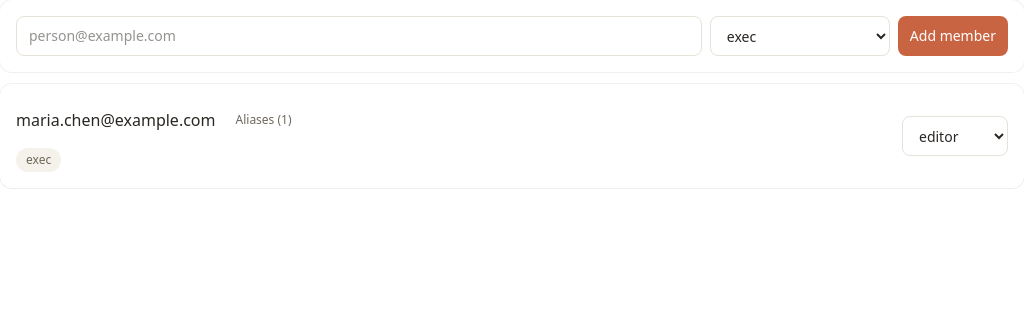
it: AccessMembers › closes the panel again on a second click
Click the button "Aliases (1)": (264, 120) [224, 100, 304, 140]
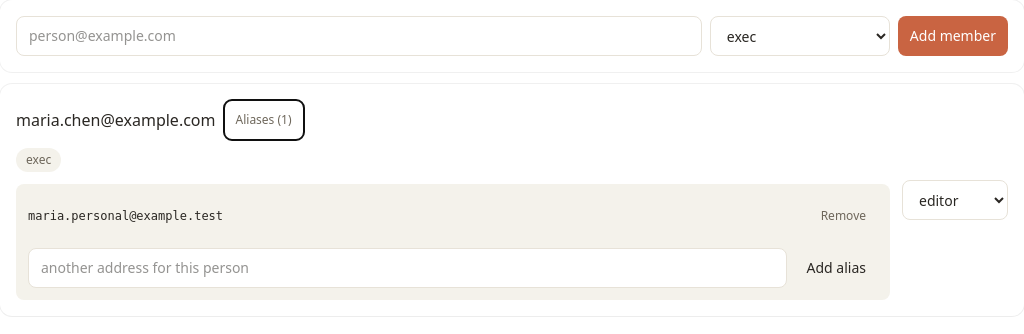
Click the button "Aliases (1)": (264, 120) [224, 100, 304, 140]
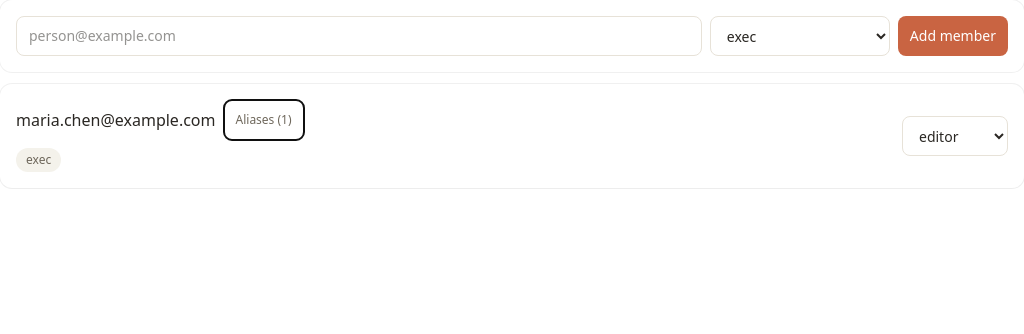
expect the text "maria.personal@example.test" is gone: met
